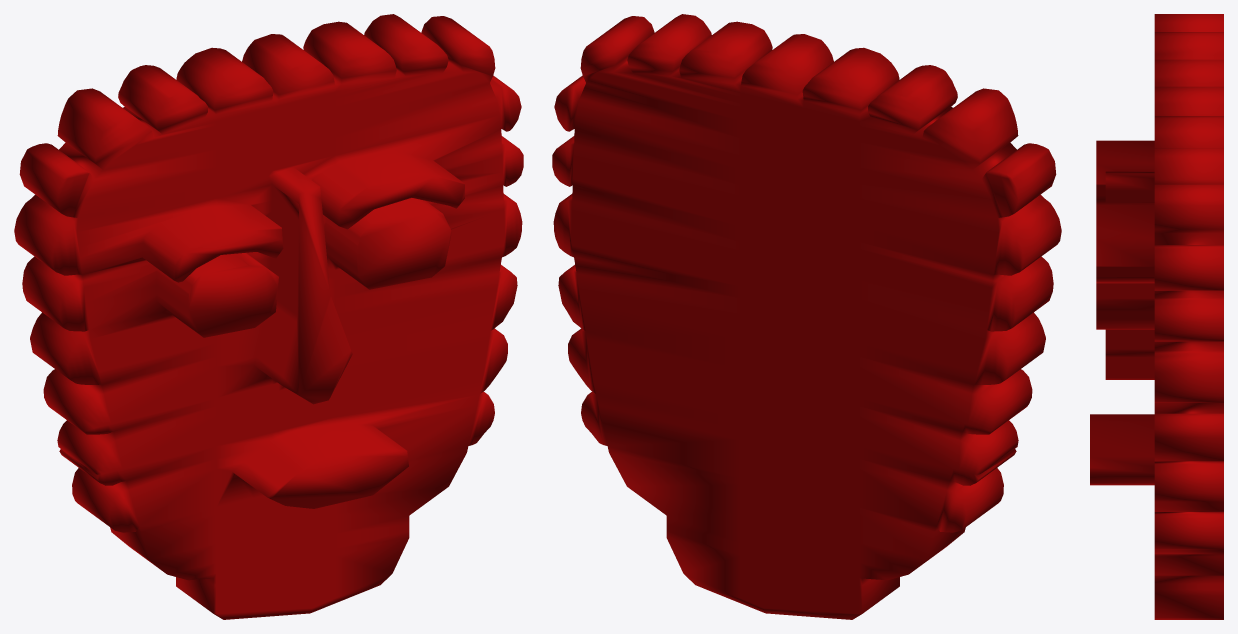
The model's file is mask2.FBX.
3 views of the same model, side by side, from view 1: azimuth 30°, elevation 25°; view 2: azimuth 150°, elevation 25°; view 3: azimuth 270°, elevation 25° (orthographic). The views are drawn at different scales.
Visible parts, largest first — view 1: Box001; view 2: Box001; view 3: Box001.
Boxes of the visible parts, x1,y1,x2,y2 form: Box001: (14, 14, 523, 619); Box001: (552, 14, 1061, 619); Box001: (1090, 14, 1223, 619).
Size of the model in its own units: 14.23 by 15.93 by 3.81.
